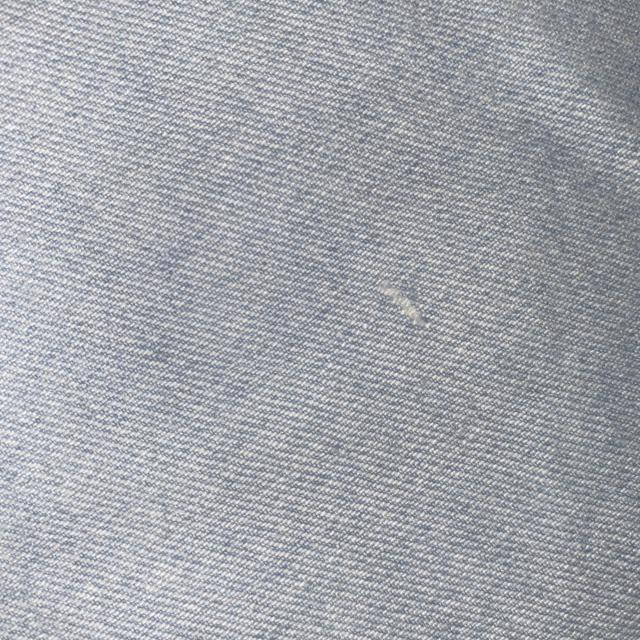Knot: (378, 281, 428, 327)
